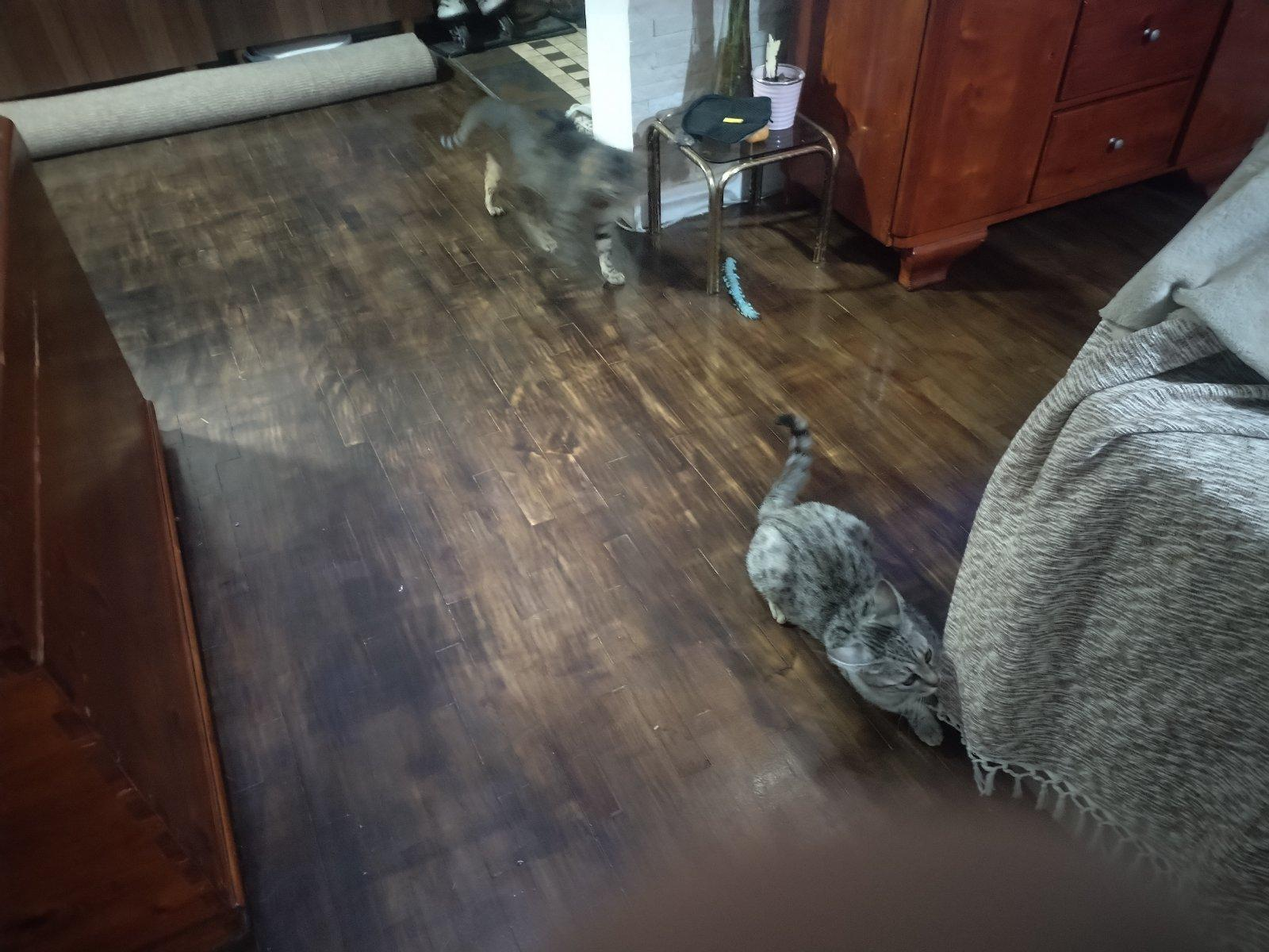macka: (738, 404, 960, 750), (438, 89, 660, 299)
